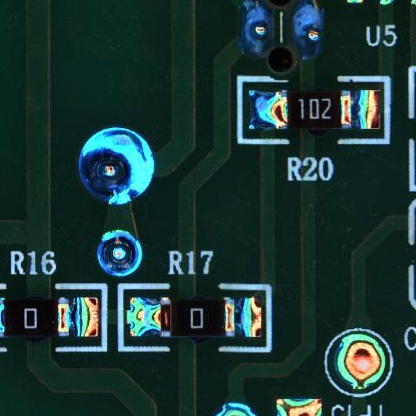spot: (79, 126, 156, 205), (332, 332, 389, 395), (96, 229, 145, 279), (288, 2, 329, 60), (241, 1, 277, 58)
